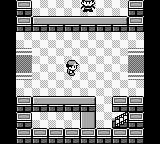main: (66, 61, 79, 75)
no-caminable: (16, 95, 145, 143), (143, 0, 160, 144), (0, 1, 16, 142), (34, 17, 127, 32), (34, 97, 95, 111), (17, 0, 32, 31), (129, 1, 143, 31), (81, 112, 96, 128)
npc: (81, 0, 96, 11)
puerta: (15, 47, 34, 82), (126, 46, 144, 82), (113, 112, 128, 128)
